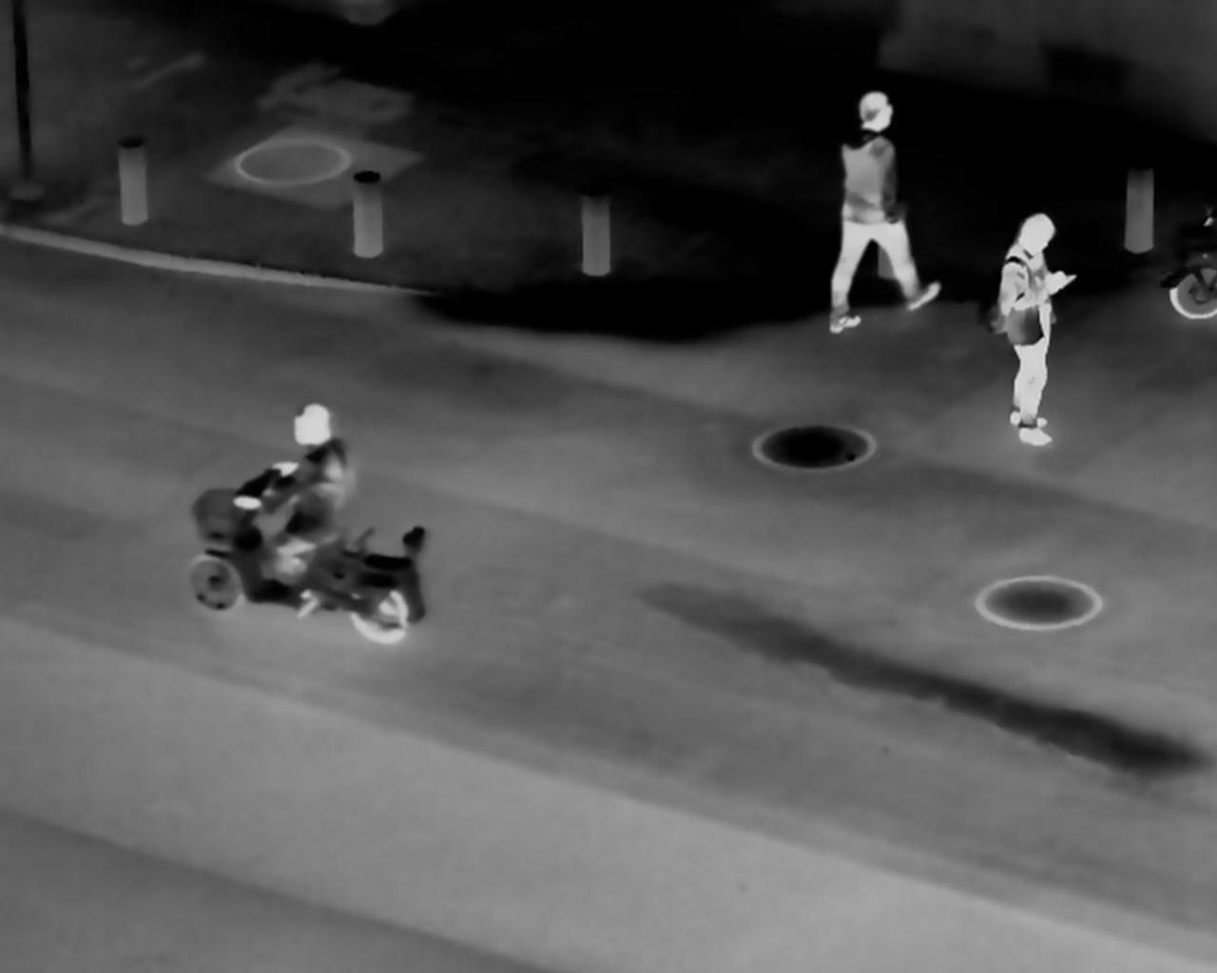person: (823, 88, 940, 337), (989, 205, 1087, 444), (252, 391, 357, 604)
